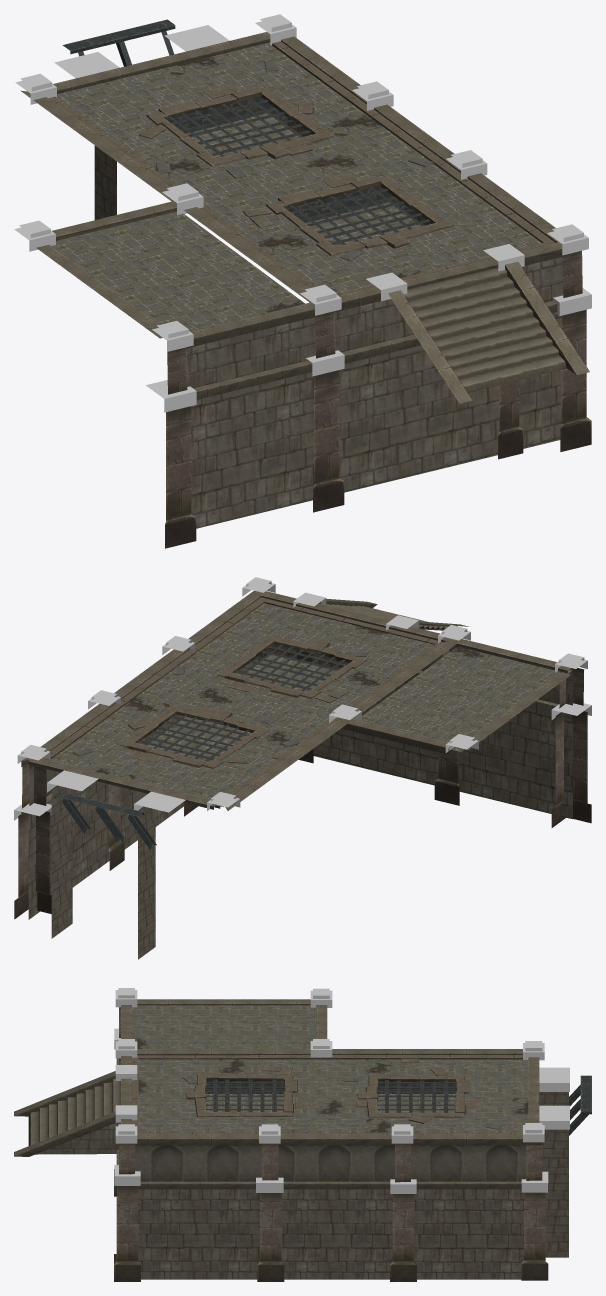
File: section01_guanka05_c.FBX
3 renders of one model, top to bottom at view 1: azimuth 30°, elevation 25°; view 2: azimuth 150°, elevation 25°; view 3: azimuth 270°, elevation 25°, orthographic. The views are drawn at different scales.
Parts seen in each view (by area): view 1: section01_guanka05_c; view 2: section01_guanka05_c; view 3: section01_guanka05_c.
Boxes of the visible parts, x1,y1,x2,y2 form: section01_guanka05_c: (14,14,591,548); section01_guanka05_c: (14,577,591,959); section01_guanka05_c: (14,988,591,1281).
Size of the model in its own units: 40.73 by 67.24 by 19.48.
